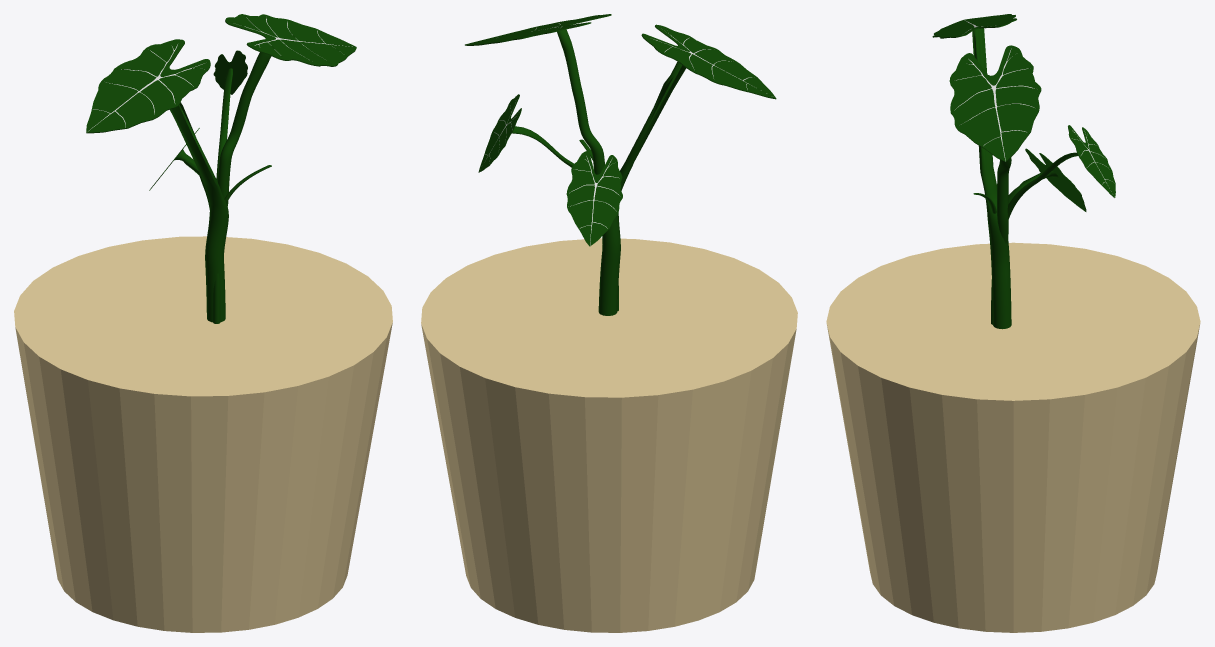
Rendered from Alokasia7.glb.
3 views of the same model, side by side, from view 1: azimuth 30°, elevation 25°; view 2: azimuth 150°, elevation 25°; view 3: azimuth 270°, elevation 25° (orthographic).
Visible parts, largest first — view 1: 흙임, 잎.007; view 2: 흙임, 잎.007; view 3: 흙임, 잎.007.
Boxes of the visible parts, x1,y1,x2,y2 form: 흙임: (14, 236, 392, 632); 잎.007: (86, 14, 356, 323); 흙임: (421, 238, 797, 632); 잎.007: (465, 14, 776, 315); 흙임: (826, 242, 1200, 632); 잎.007: (932, 14, 1115, 329).
Size of the model in its own units: 0.3201 by 0.5075 by 0.3201.
